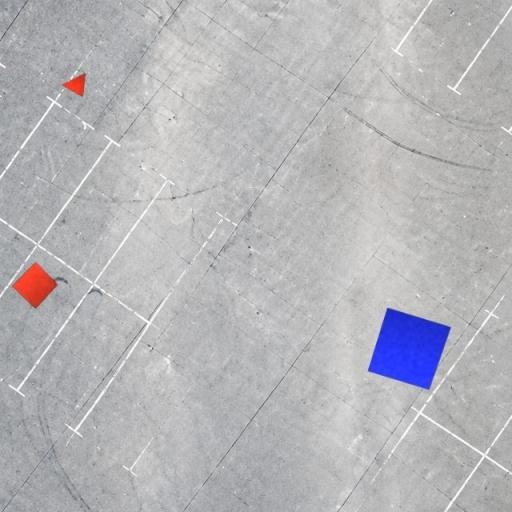BLUE_SQUARE: (367, 308, 452, 390)
RED_SQUARE: (12, 262, 58, 310)
